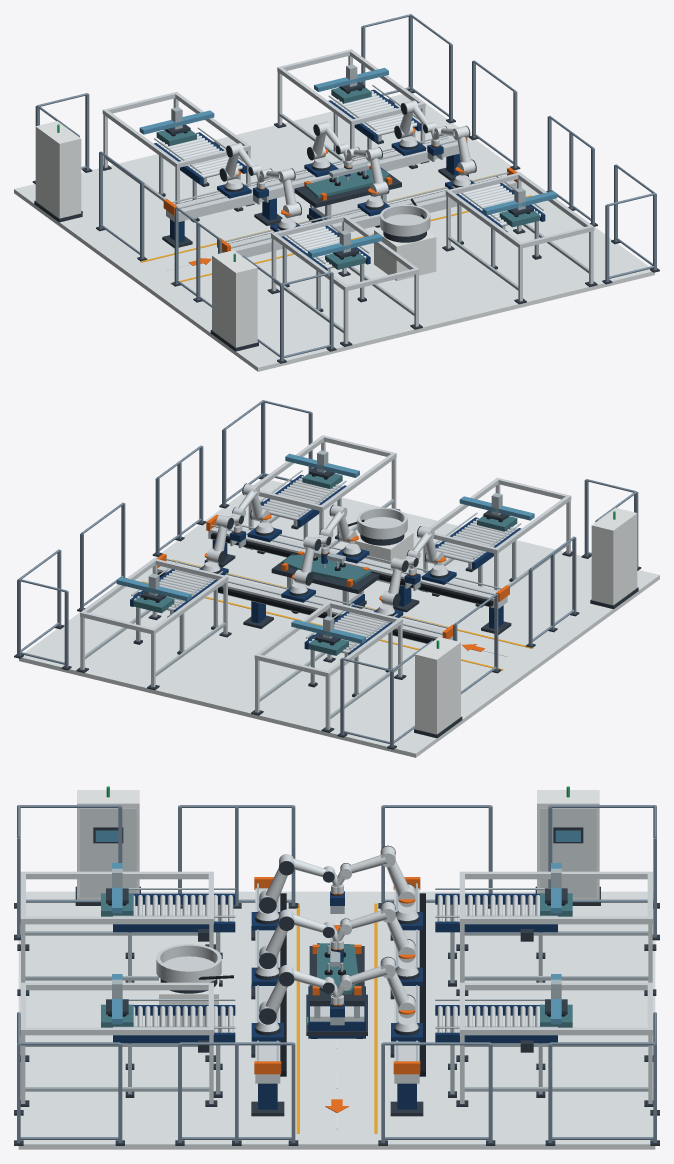
Rendered from SCREW.glb.
The picture shows the model from 3 angles, top to bottom: view 1: azimuth 30°, elevation 25°; view 2: azimuth 150°, elevation 25°; view 3: azimuth 270°, elevation 25°; orthographic projection. The views are drawn at different scales.
Visible parts, largest first — view 1: ZoneBase_001, Enclosure_001.001, Enclosure_001, MainBeam_001, MainBeam_001.001, FeederCabinet_001, Bowl_003, MAIN_panel_concept_014, MainJig_013, Side_005, Side_005.002, Side_005.006 (+10 smaller); view 2: ZoneBase_001, Enclosure_001, Enclosure_001.001, MainBeam_001.001, MainBeam_001, Bowl_003, CableCarrier_006.001, MAIN_panel_concept_014, CableCarrier_006, FeederCabinet_001, MainJig_013, Side_005.002 (+10 smaller); view 3: ZoneBase_001, Door_003, Door_003.001, Bowl_003, Side_005.007, Side_005.005, Side_005.001, Side_005.003, Enclosure_001, Enclosure_001.001, Side_005.006, Side_005.004 (+27 smaller).
Part boxes in pixels (x1,y1,x2,y2): ZoneBase_001: [14, 93, 654, 371]; Enclosure_001.001: [35, 121, 81, 218]; Enclosure_001: [212, 250, 257, 347]; MainBeam_001: [166, 137, 459, 221]; MainBeam_001.001: [222, 180, 516, 257]; FeederCabinet_001: [374, 228, 436, 280]; Bowl_003: [380, 204, 430, 236]; MAIN_panel_concept_014: [305, 168, 389, 198]; MainJig_013: [294, 167, 401, 207]; Side_005: [102, 109, 180, 168]; Side_005.002: [277, 67, 354, 125]; Side_005.006: [445, 190, 522, 248]; ZoneBase_001: [19, 479, 659, 757]; Enclosure_001: [591, 508, 637, 605]; Enclosure_001.001: [415, 637, 460, 734]; MainBeam_001.001: [208, 525, 507, 608]; MainBeam_001: [157, 566, 452, 643]; Bowl_003: [357, 507, 407, 539]; CableCarrier_006.001: [211, 532, 493, 606]; MAIN_panel_concept_014: [283, 555, 371, 583]; CableCarrier_006: [157, 572, 435, 643]; FeederCabinet_001: [354, 531, 413, 583]; MainJig_013: [271, 553, 379, 593]; Side_005.002: [151, 575, 228, 634]; ZoneBase_001: [18, 891, 655, 1149]; Door_003: [80, 808, 136, 897]; Door_003.001: [540, 808, 596, 897]; Bowl_003: [156, 944, 221, 982]; Side_005.007: [20, 1027, 213, 1035]; Side_005.005: [20, 916, 213, 924]; Side_005.001: [459, 916, 652, 924]; Side_005.003: [459, 1027, 652, 1035]; Enclosure_001: [77, 790, 139, 899]; Enclosure_001.001: [537, 790, 599, 899]; Side_005.006: [20, 982, 213, 990]; Side_005.004: [20, 871, 213, 879].
Bounding box in the file's own units: 10.09 × 2.28 × 10.82.
